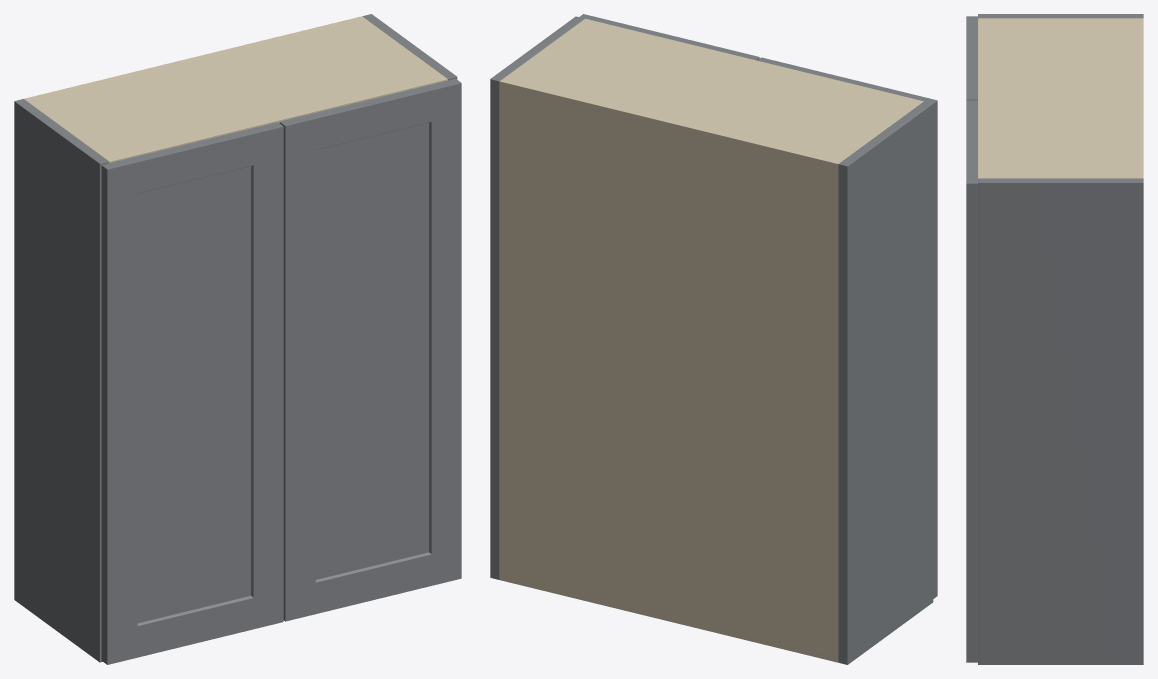
File: oppein-ply-gss-w2736.glb
The picture shows the model from 3 angles, left to right: view 1: azimuth 30°, elevation 25°; view 2: azimuth 150°, elevation 25°; view 3: azimuth 270°, elevation 25°; orthographic projection. The views are drawn at different scales.
Parts seen in each view (by area): view 1: Door, Door.001, Cabinet side, Cabinet top, Cabinet back, Cabinet side.001; view 2: Cabinet back, Cabinet side, Cabinet top, Cabinet side.001, Door, Cabinet bottom, Door.001; view 3: Cabinet side.001, Cabinet top, Door.001, Cabinet back, Door, Cabinet side.
Part boxes in pixels (box(x1,y1,x2,y2)): Door: box(101, 122, 283, 664); Door.001: box(279, 78, 461, 621); Cabinet side: box(14, 99, 108, 662); Cabinet top: box(25, 17, 447, 163); Cabinet back: box(24, 16, 364, 100); Cabinet side.001: box(362, 14, 457, 80); Cabinet back: box(499, 79, 840, 662); Cabinet side: box(838, 101, 933, 664); Cabinet top: box(499, 18, 923, 171); Cabinet side.001: box(490, 16, 584, 579); Door: box(757, 57, 937, 598); Cabinet bottom: box(501, 574, 838, 660); Door.001: box(579, 14, 759, 60); Cabinet side.001: box(978, 178, 1143, 664); Cabinet top: box(978, 18, 1143, 178); Door.001: box(966, 100, 977, 662); Cabinet back: box(1137, 18, 1143, 178); Door: box(966, 16, 977, 100); Cabinet side: box(978, 14, 1143, 18).
Size of the model in its own units: 0.6858 by 0.9144 by 0.3048.
